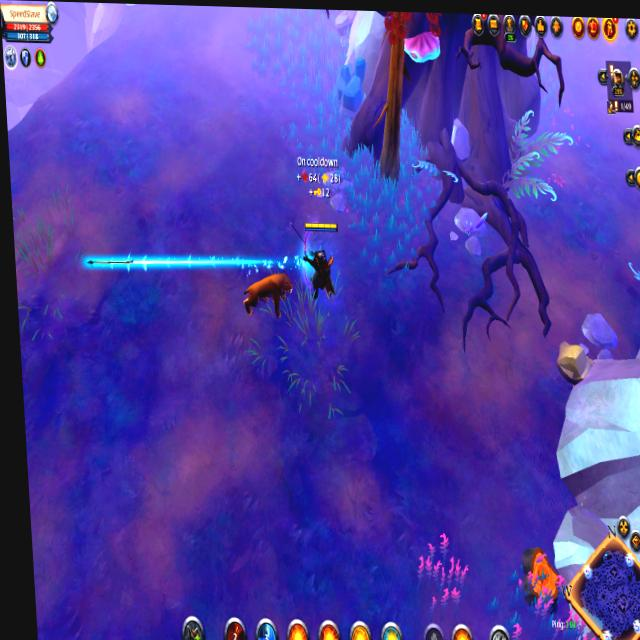ore: (238, 256, 297, 328)
red: (296, 213, 347, 306)
wisp caged: (346, 10, 450, 185)
